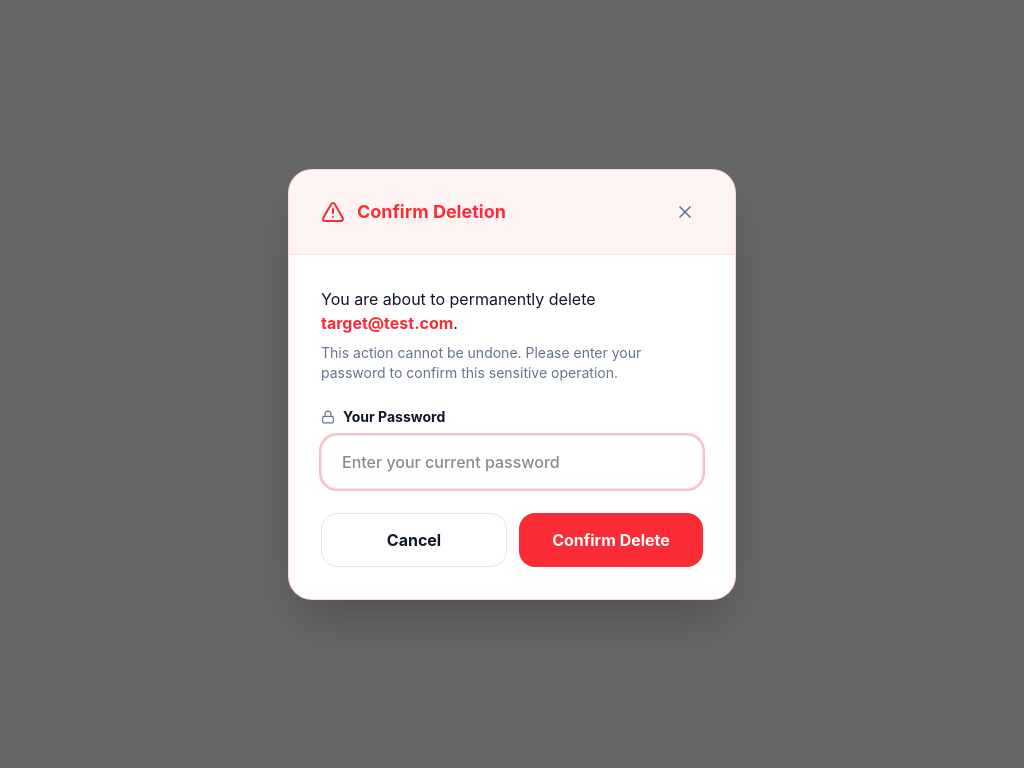
Scenario: DeleteUserConfirmModal › displays error if password verification fails (no token)
Type "wrong-password" into the password field with placeholder "Enter your current password" at (512, 462), box left=321, top=434, right=703, bottom=488
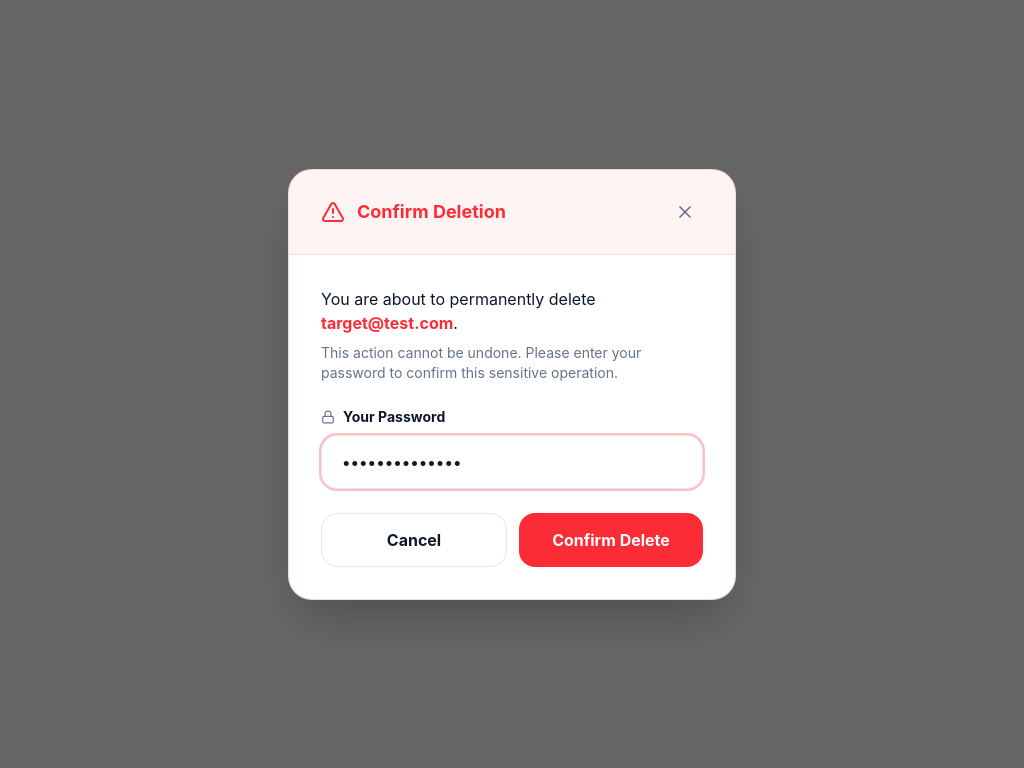
Submit the form from the button "Confirm Delete", box left=519, top=512, right=703, bottom=566
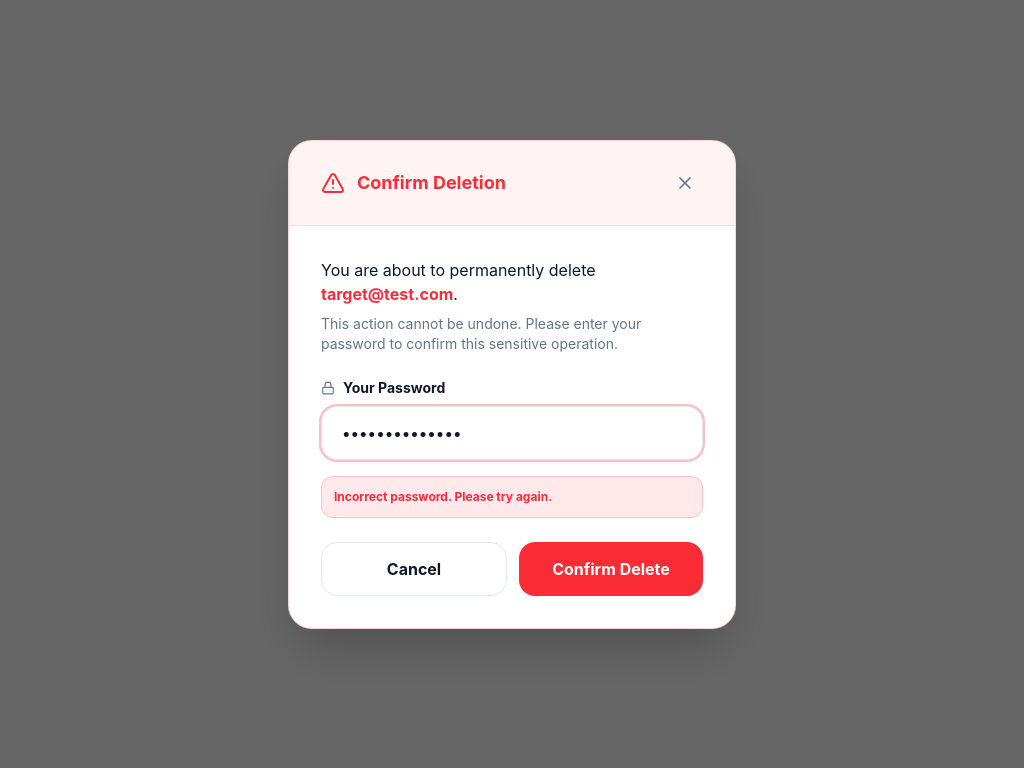
Expected: the text "Incorrect password. Please try again." is shown, left=321, top=476, right=703, bottom=518
